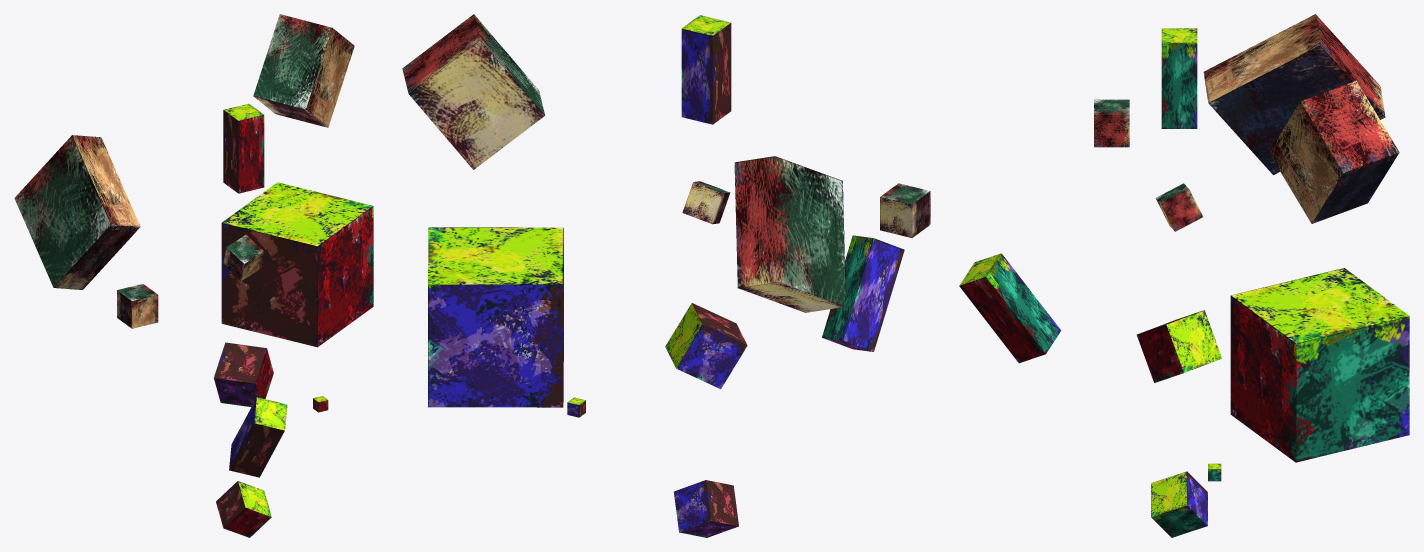
3 views of the same model, side by side, from view 1: azimuth 30°, elevation 25°; view 2: azimuth 150°, elevation 25°; view 3: azimuth 270°, elevation 25° (orthographic). The views are drawn at different scales.
Parts seen in each view (by area): view 1: Cube.005, Cube.007, Cube.003, Cube.001, Cube.006, Cube.004, Cube.008, Cube.002, Cube; view 2: Cube.005, Cube.007, Cube.003, Cube.006, Cube.001, Cube.004, Cube.008, Cube.002, Cube; view 3: Cube.005, Cube.007, Cube.003, Cube.006, Cube.004, Cube.001, Cube.008, Cube.002, Cube.
Boxes of the visible parts, bbox=[...] form: Cube.005: bbox=[221, 182, 373, 347]; Cube.007: bbox=[14, 135, 140, 289]; Cube.003: bbox=[253, 14, 354, 127]; Cube.001: bbox=[223, 103, 264, 193]; Cube.006: bbox=[229, 397, 287, 477]; Cube.004: bbox=[214, 342, 273, 406]; Cube.008: bbox=[216, 481, 271, 537]; Cube.002: bbox=[117, 284, 158, 328]; Cube: bbox=[223, 235, 263, 280]; Cube.005: bbox=[428, 227, 563, 407]; Cube.007: bbox=[734, 156, 845, 312]; Cube.003: bbox=[402, 14, 544, 169]; Cube.006: bbox=[822, 235, 904, 351]; Cube.001: bbox=[681, 15, 731, 124]; Cube.004: bbox=[665, 303, 747, 388]; Cube.008: bbox=[674, 480, 738, 537]; Cube.002: bbox=[880, 183, 930, 237]; Cube: bbox=[682, 181, 730, 224]; Cube.005: bbox=[1230, 268, 1409, 462]; Cube.007: bbox=[1203, 14, 1385, 174]; Cube.003: bbox=[1268, 80, 1399, 223]; Cube.006: bbox=[959, 253, 1061, 363]; Cube.004: bbox=[1137, 310, 1222, 382]; Cube.001: bbox=[1161, 28, 1197, 128]; Cube.008: bbox=[1151, 471, 1207, 537]; Cube.002: bbox=[1094, 99, 1129, 147]; Cube: bbox=[1155, 183, 1202, 231].
Size of the model in its own units: 9.58 by 12.11 by 9.51.
5 materials, 5 textured.
